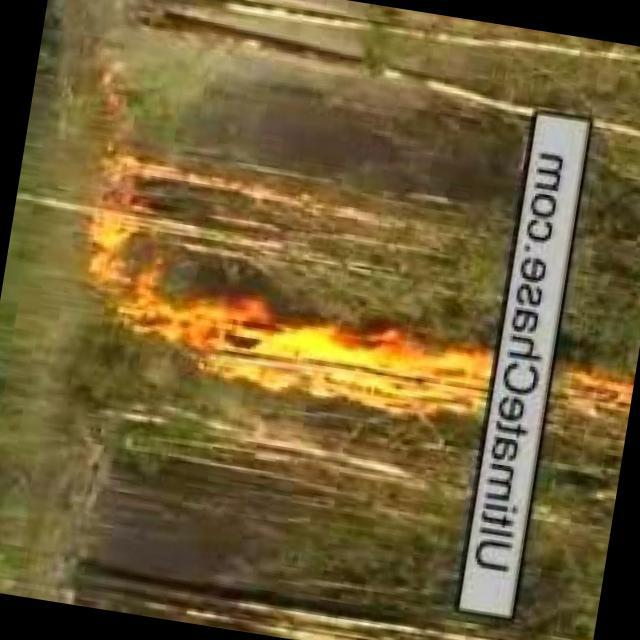Fire: (206, 297, 488, 421), (66, 150, 219, 351), (558, 363, 637, 417)
